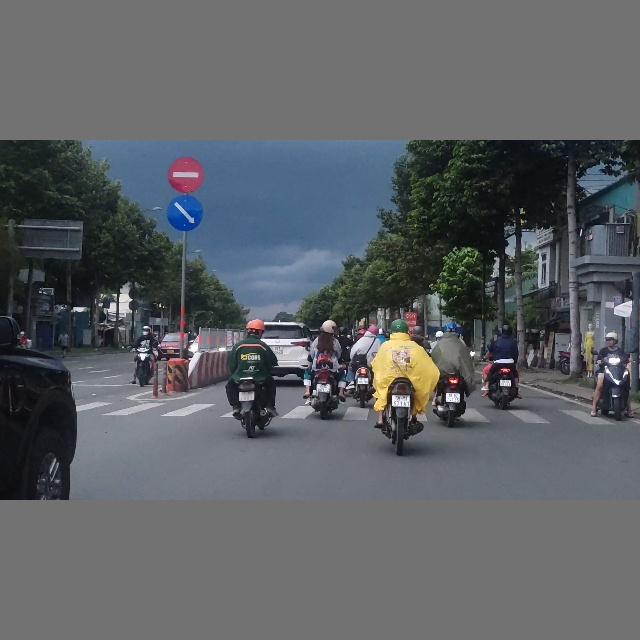P.102: (167, 155, 205, 194)
R.302a: (167, 194, 204, 231)
